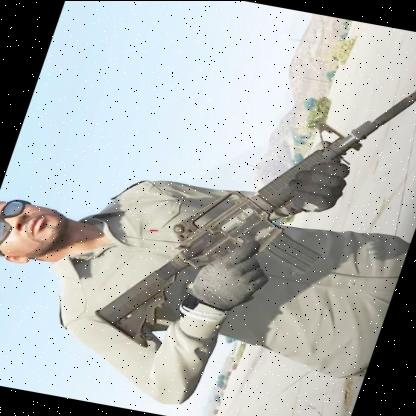rifle: (82, 25, 416, 382)
